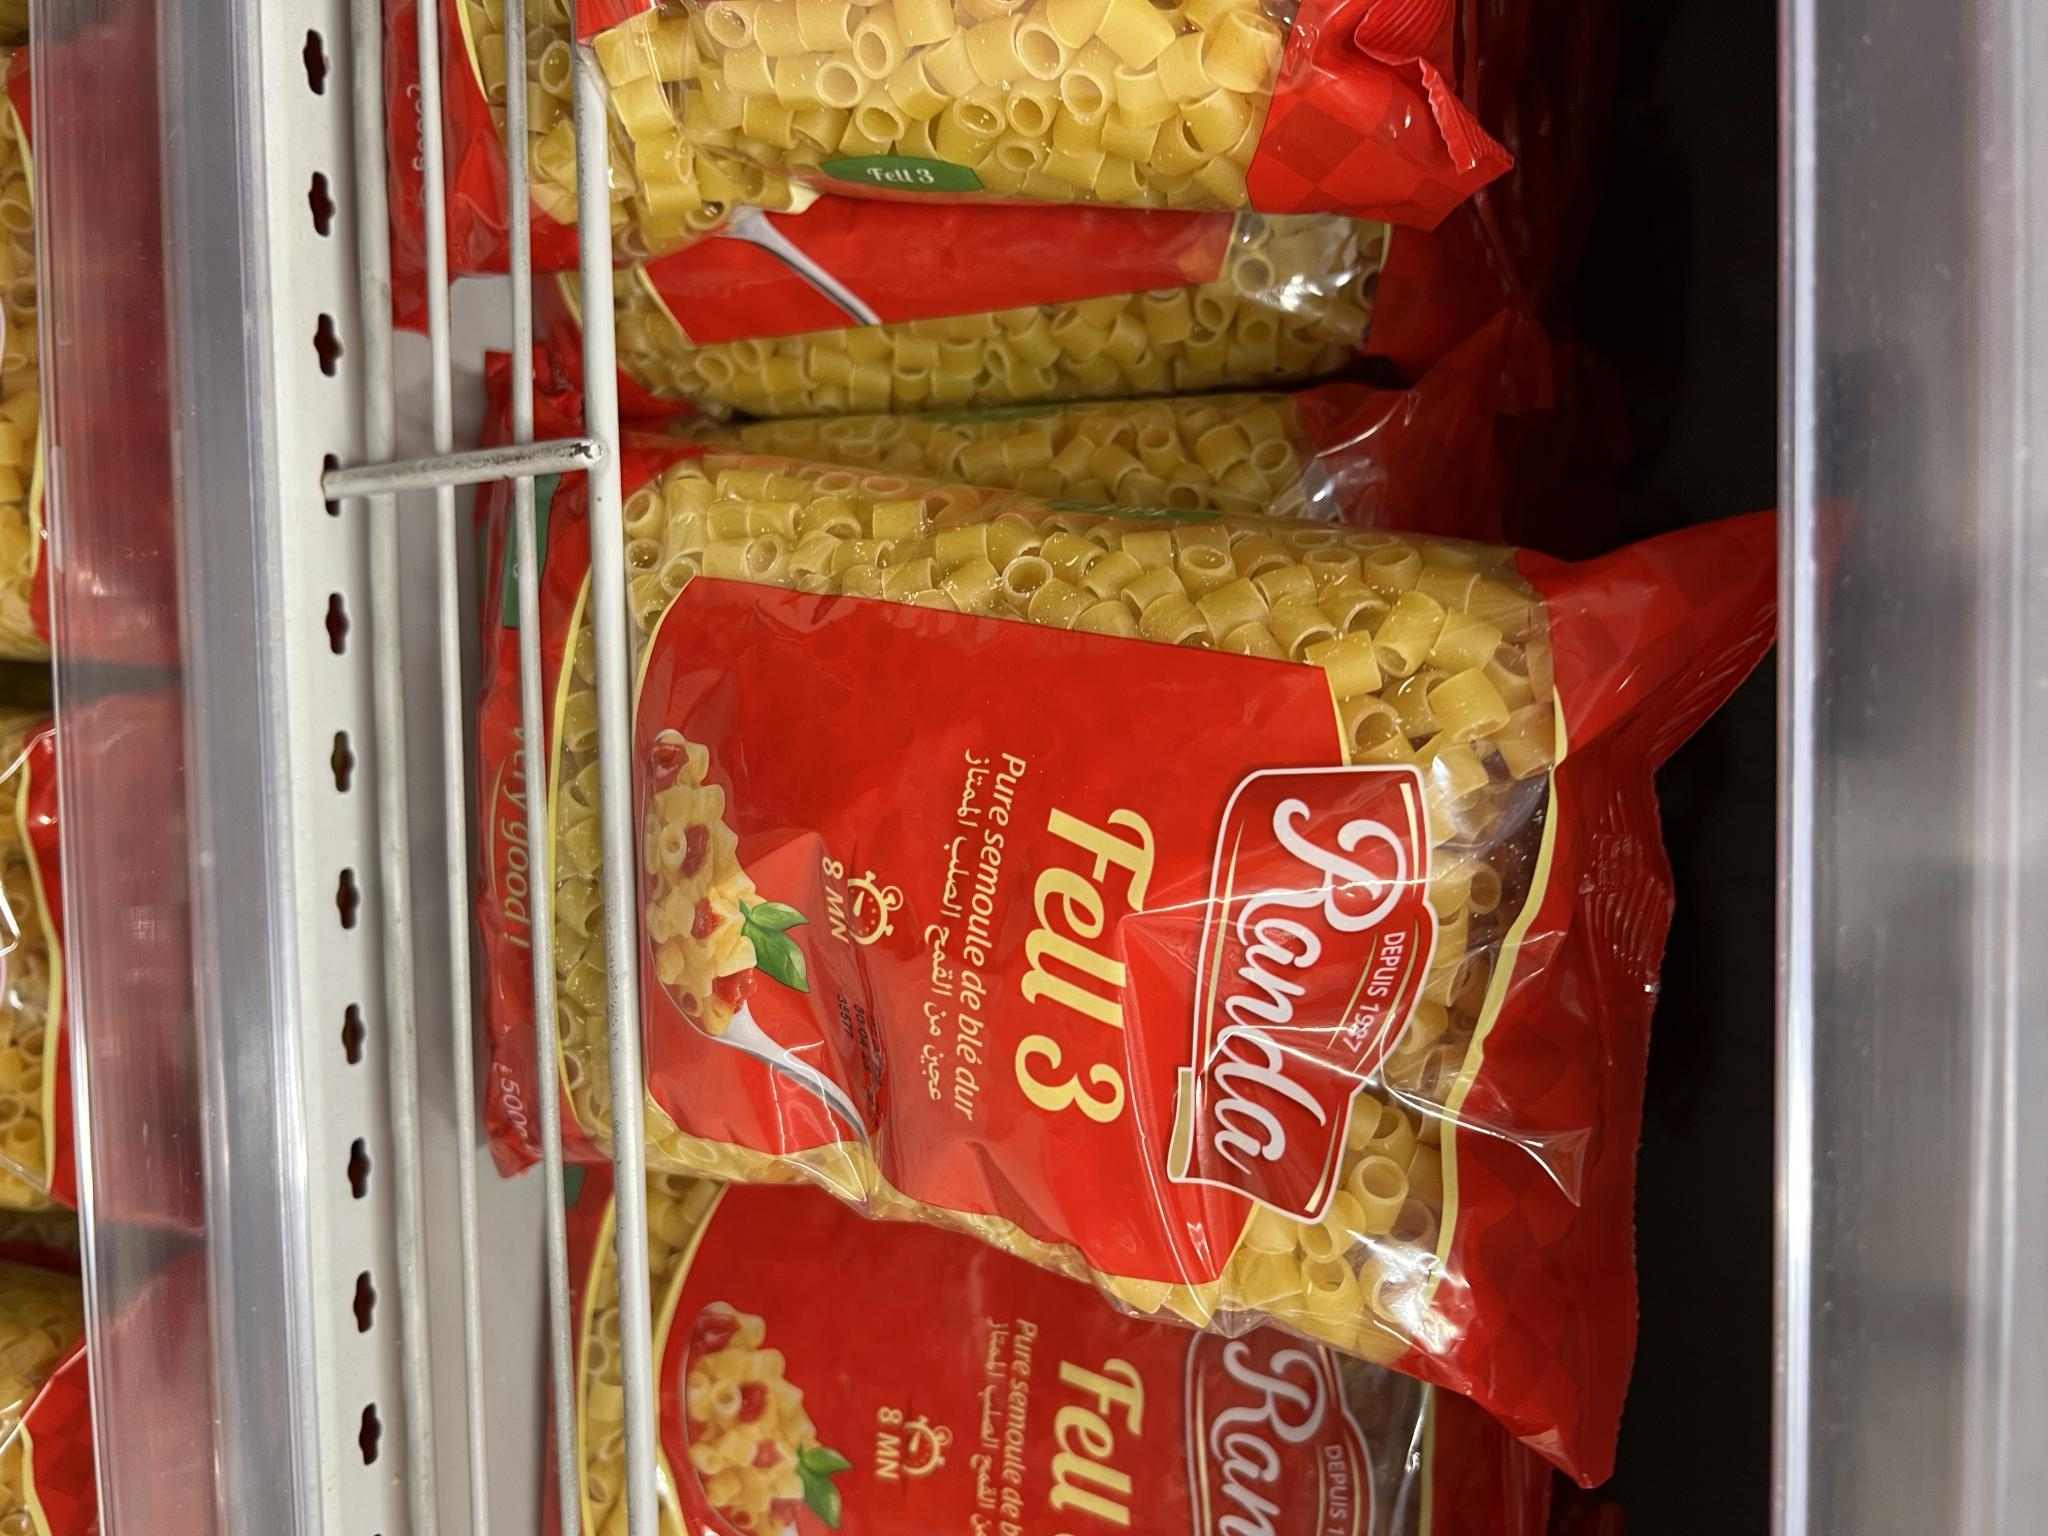Fell: (487, 436, 1748, 1465), (587, 1181, 1543, 1536), (552, 13, 1437, 218), (601, 248, 1435, 400)
